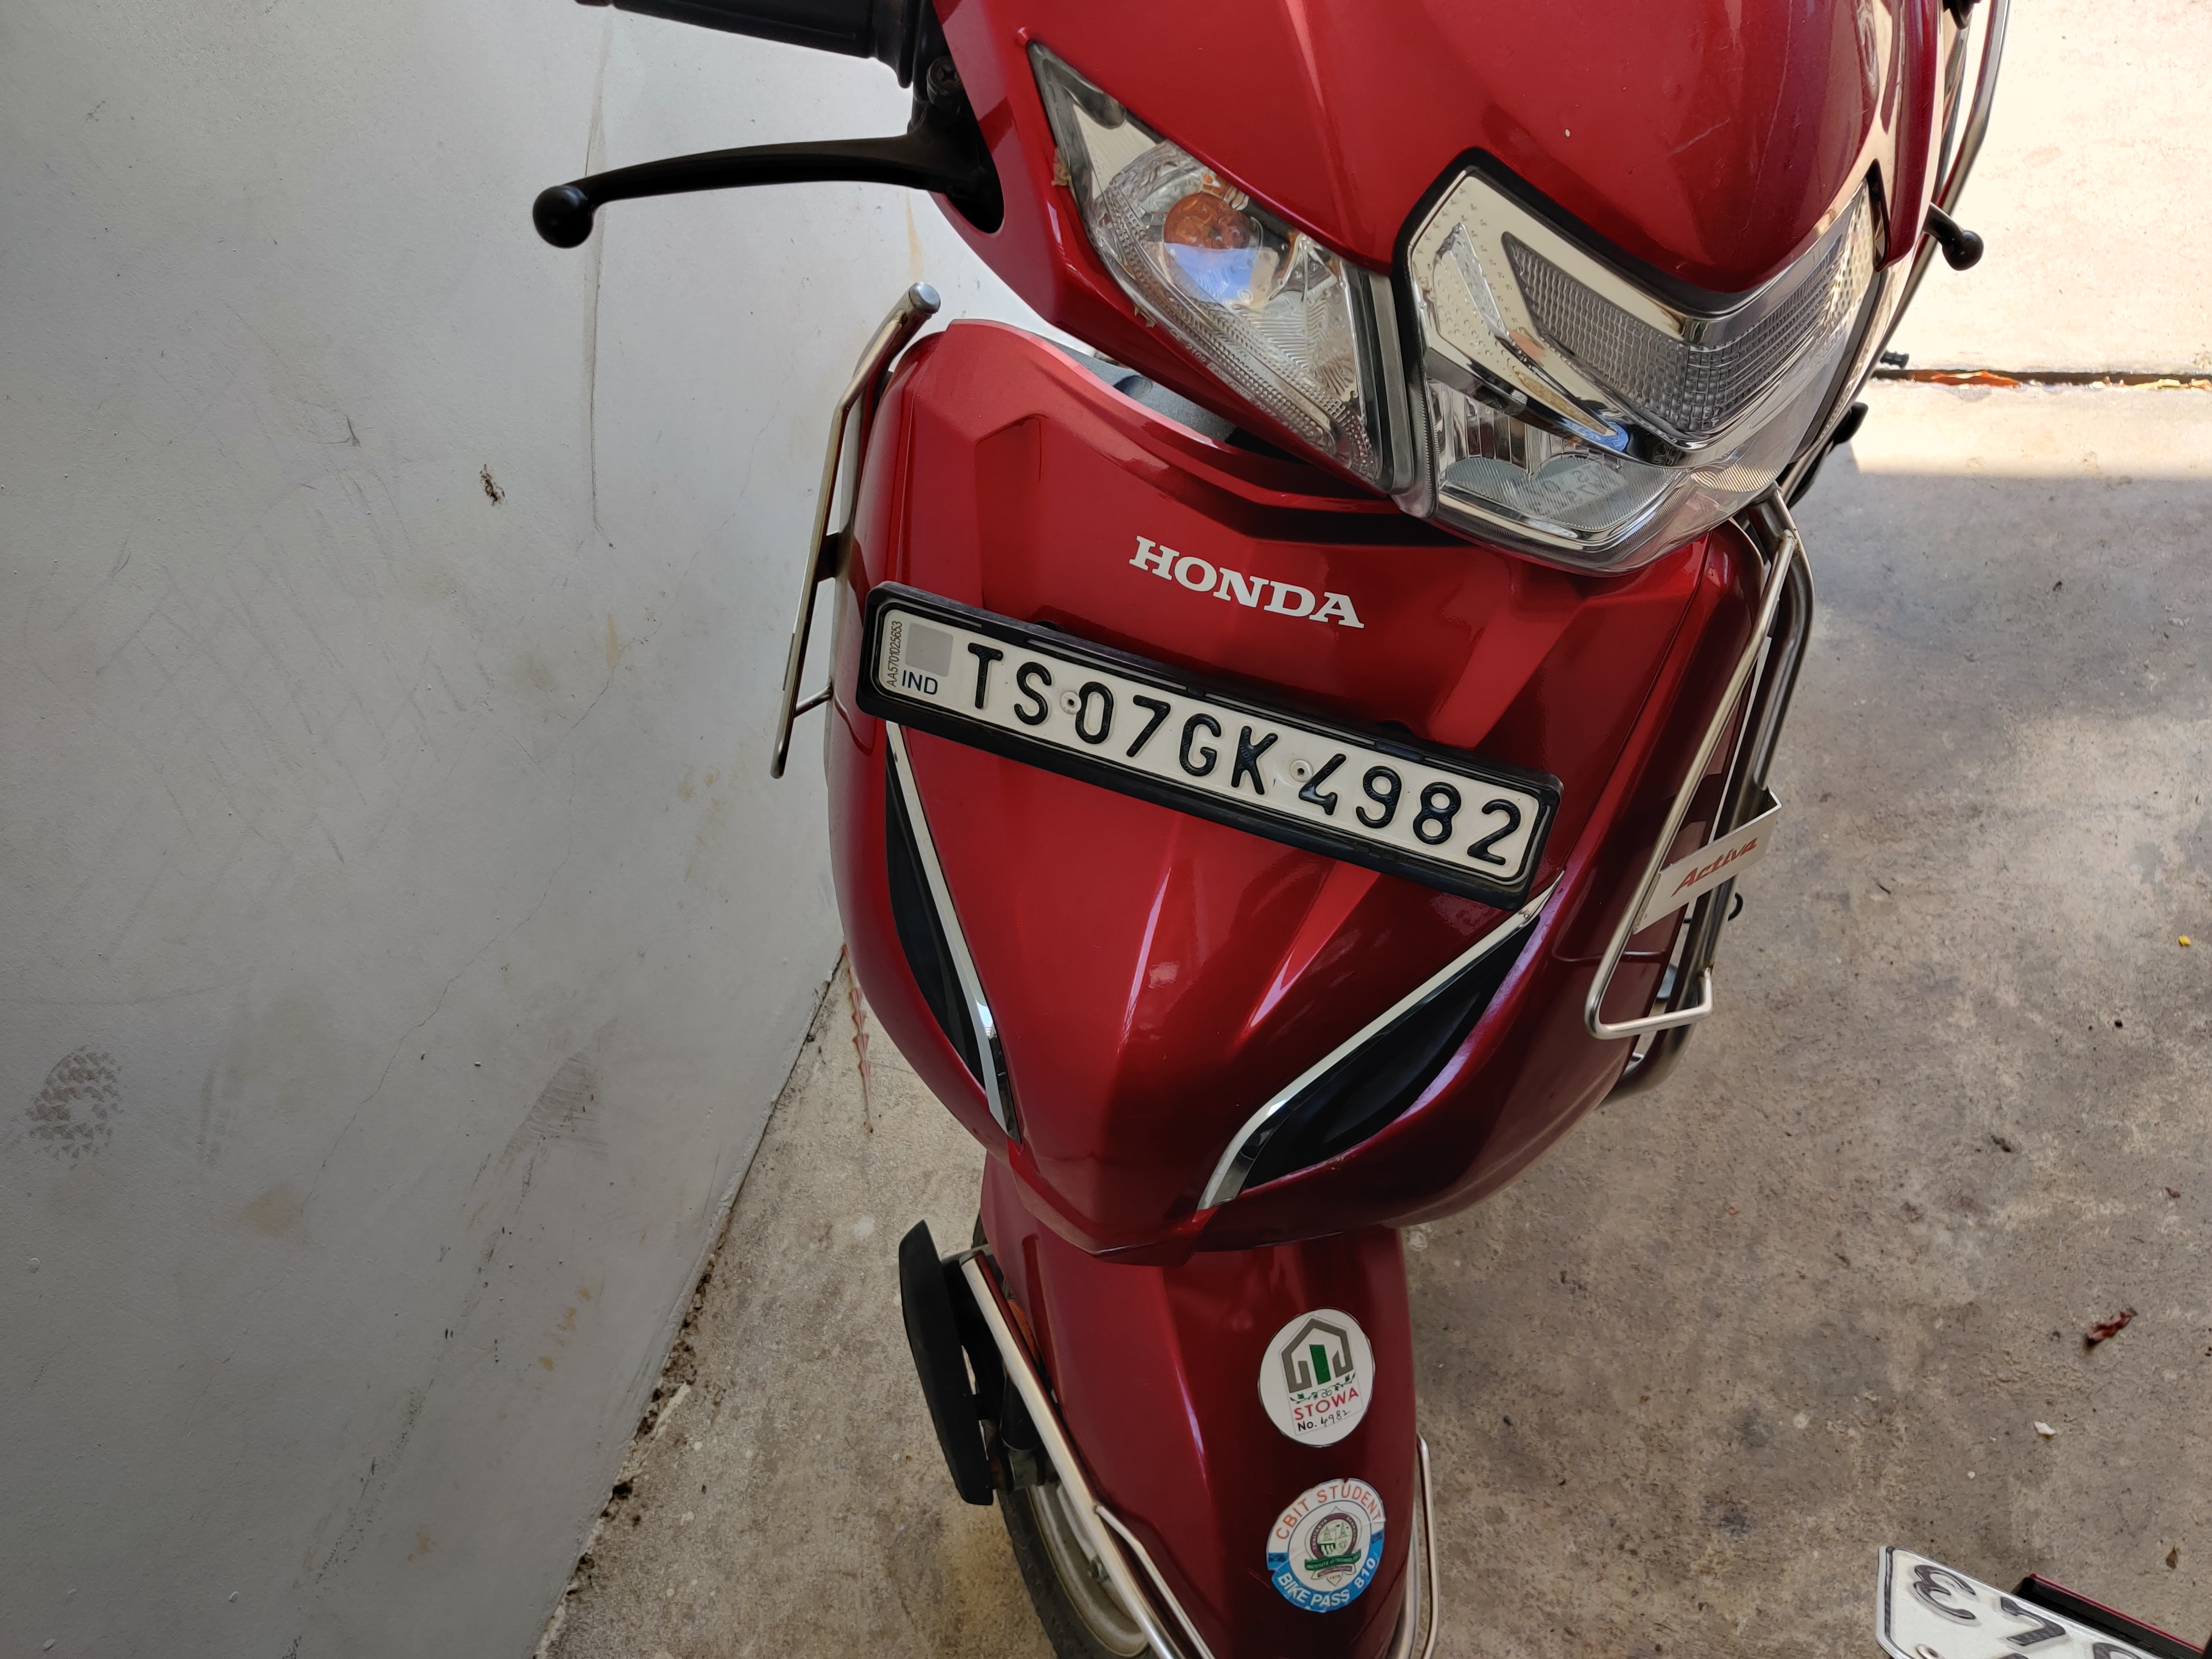plate: (834, 564, 1558, 914)
